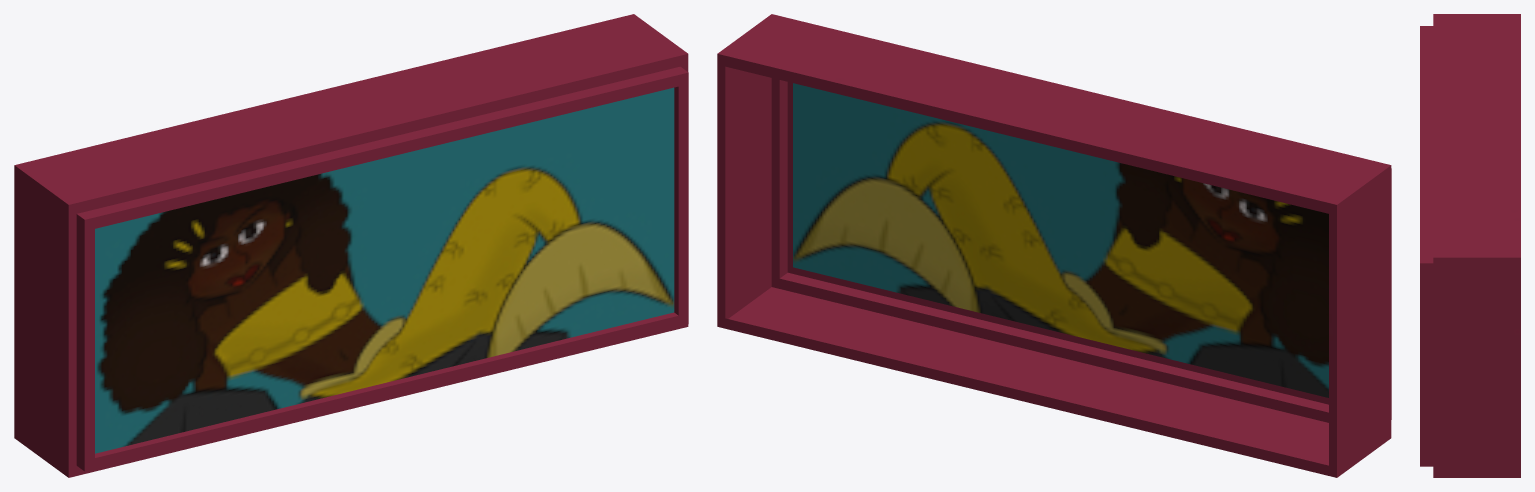
The model's file is Billboard.fbx.
3 renders of one model, left to right at view 1: azimuth 30°, elevation 25°; view 2: azimuth 150°, elevation 25°; view 3: azimuth 270°, elevation 25°, orthographic. The views are drawn at different scales.
Visible parts, largest first — view 1: BillboardFloor; view 2: BillboardFloor; view 3: BillboardFloor.
Boxes of the visible parts, x1,y1,x2,y2 form: BillboardFloor: (14, 14, 688, 477); BillboardFloor: (717, 14, 1391, 477); BillboardFloor: (1420, 14, 1520, 477).
Bounding box in the file's own units: 19.54 × 8.23 × 3.41.
